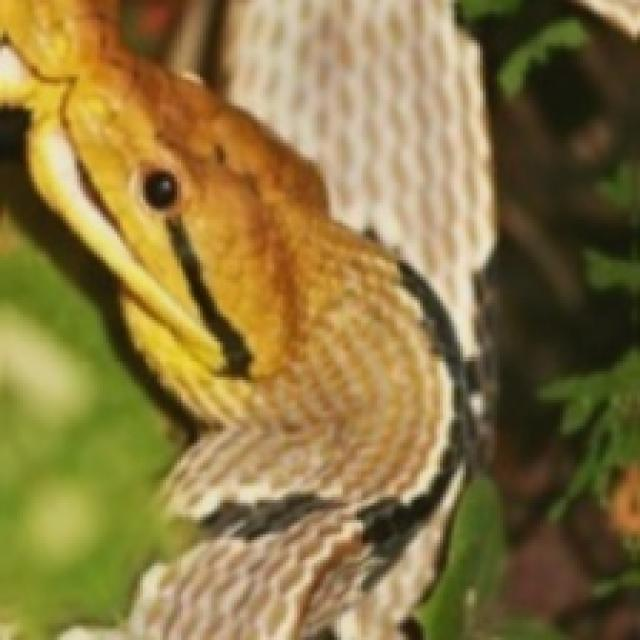dog-toothed cat snake: (0, 0, 491, 637)
